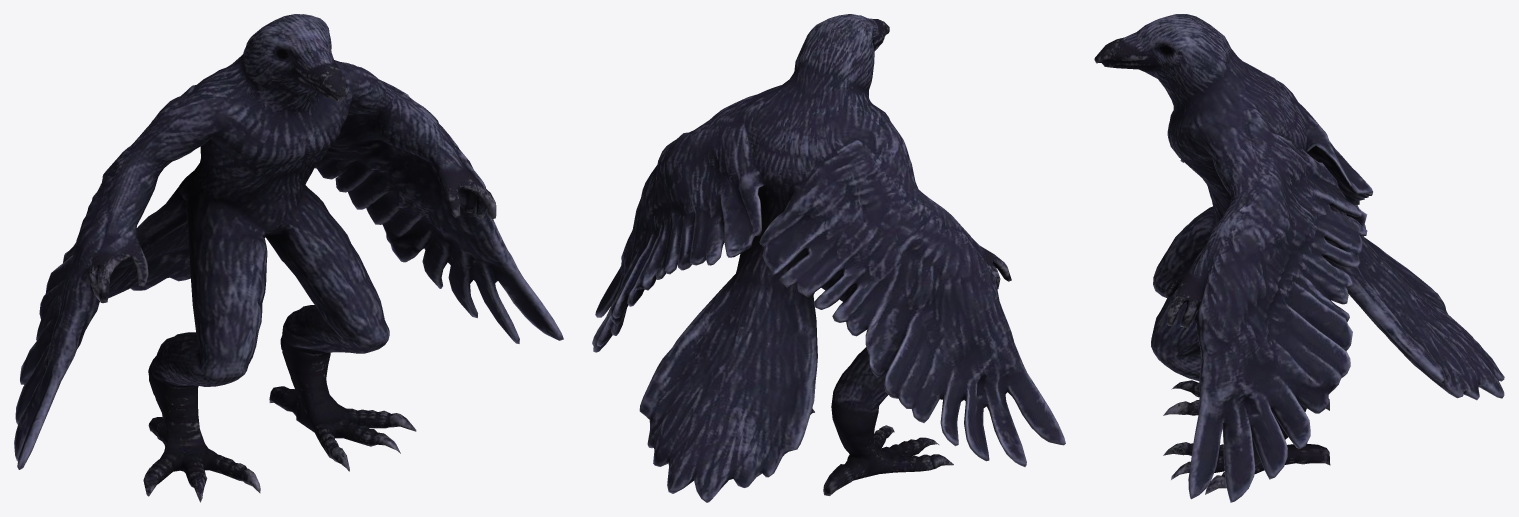
The model's file is MZ4250 - Wereraven.glb.
The picture shows the model from 3 angles, left to right: view 1: azimuth 30°, elevation 25°; view 2: azimuth 150°, elevation 25°; view 3: azimuth 270°, elevation 25°; orthographic projection. The views are drawn at different scales.
Parts seen in each view (by area): view 1: Wereraven; view 2: Wereraven; view 3: Wereraven.
Part boxes in pixels (x1,y1,x2,y2): Wereraven: (14, 14, 563, 502); Wereraven: (592, 14, 1065, 502); Wereraven: (1094, 14, 1504, 502).
Size of the model in its own units: 1.22 by 0.9924 by 0.8789.
Materials: 1 (1 with a texture image).
